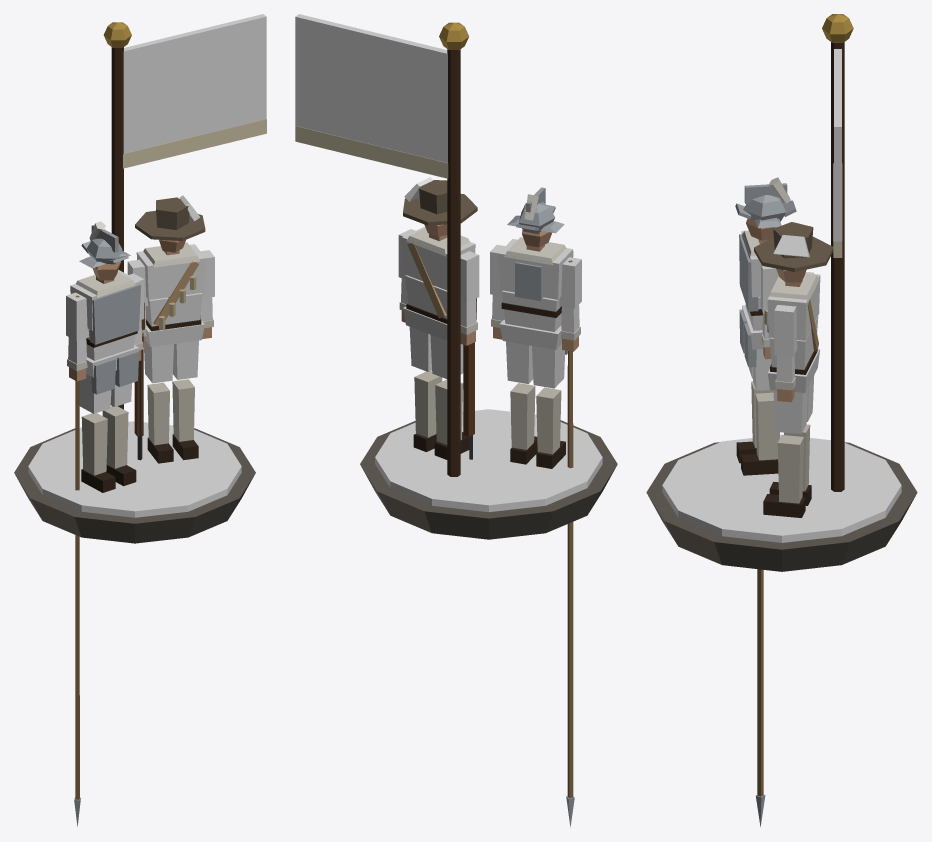
File: map_marker_early_modern.glb
3 renders of one model, left to right at view 1: azimuth 30°, elevation 25°; view 2: azimuth 150°, elevation 25°; view 3: azimuth 270°, elevation 25°, orthographic. The views are drawn at different scales.
Parts seen in each view (by area): view 1: map_marker_early_modern; view 2: map_marker_early_modern; view 3: map_marker_early_modern.
Part boxes in pixels (x1,y1,x2,y2): map_marker_early_modern: (14,14,266,826); map_marker_early_modern: (295,14,617,827); map_marker_early_modern: (646,14,917,826).
Bounding box in the file's own units: 1.69 × 4.73 × 1.36.
